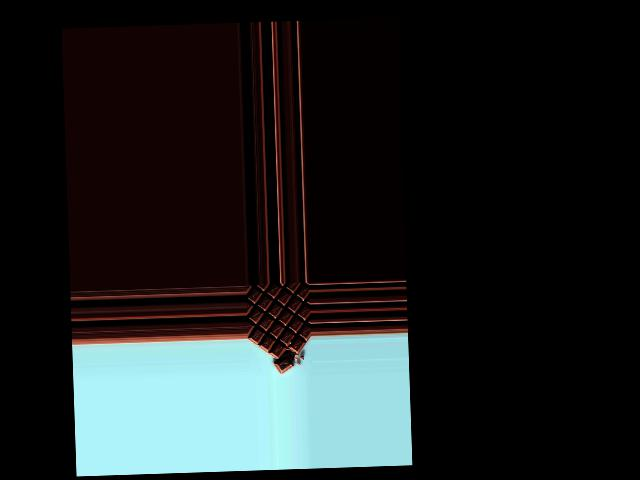chocolate: (248, 281, 310, 365)
